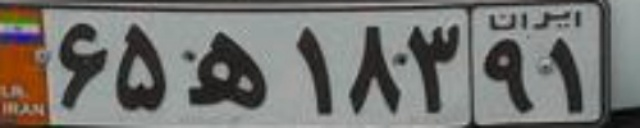1: (298, 27, 330, 114), (546, 35, 580, 113)
3: (406, 22, 462, 115)
5: (110, 21, 171, 110)
6: (57, 21, 105, 109)
8: (347, 25, 403, 116)
9: (481, 36, 534, 113)
he: (181, 31, 272, 109)
